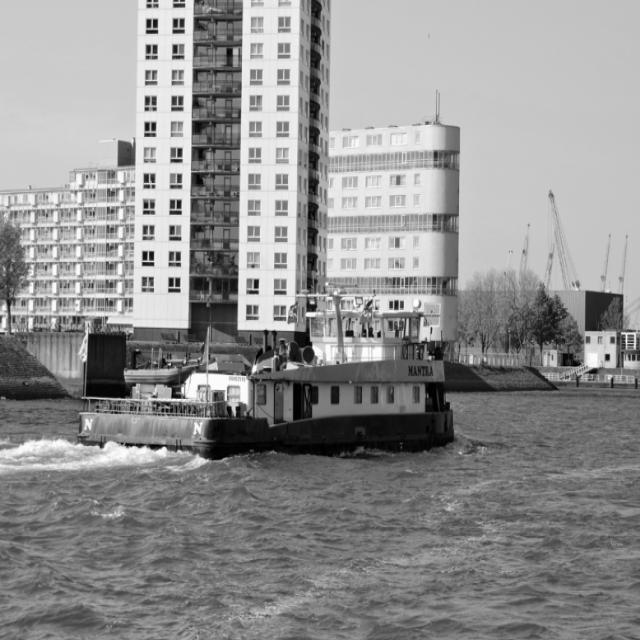tugboat: (76, 283, 462, 476)
